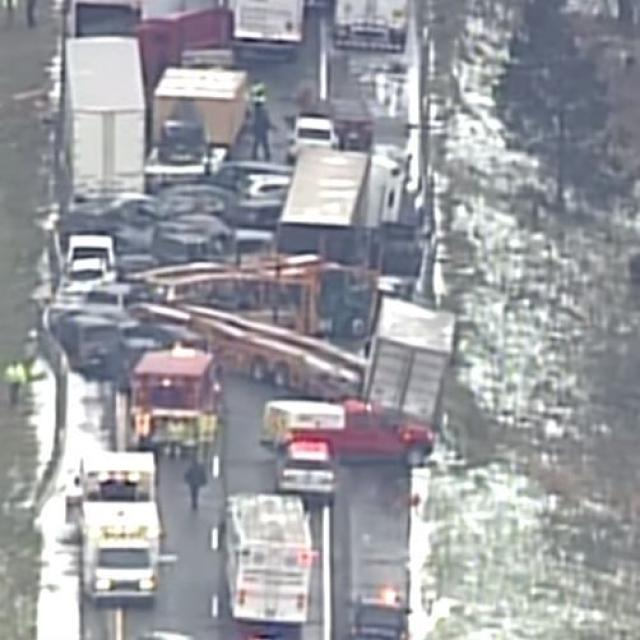traffic_incident: (42, 120, 455, 456)
